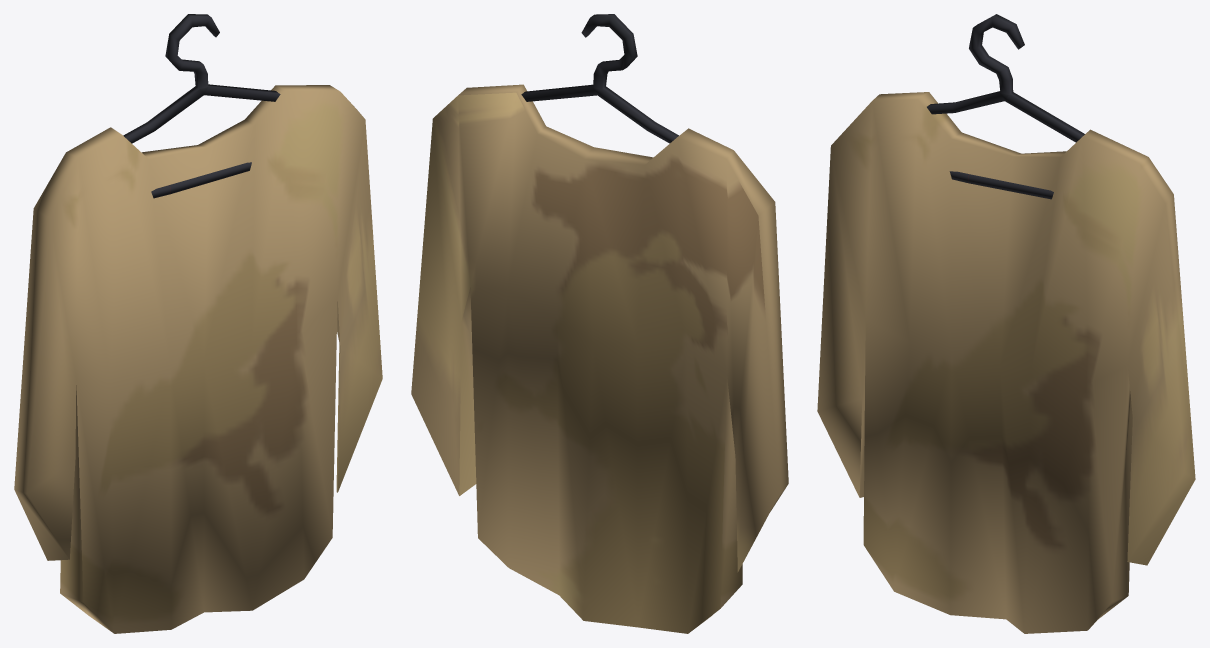
Rendered from SM_PROP_hanger_interior_02.fbx.
3 renders of one model, left to right at view 1: azimuth 30°, elevation 25°; view 2: azimuth 150°, elevation 25°; view 3: azimuth 330°, elevation 25°, orthographic.
Visible parts, largest first — view 1: SM_PROP_hanger_interior_02; view 2: SM_PROP_hanger_interior_02; view 3: SM_PROP_hanger_interior_02.
Part boxes in pixels (x1,y1,x2,y2): SM_PROP_hanger_interior_02: (14, 14, 382, 633); SM_PROP_hanger_interior_02: (411, 14, 788, 633); SM_PROP_hanger_interior_02: (817, 14, 1195, 633).
Bounding box in the file's own units: 57.03 × 89.47 × 8.64.
